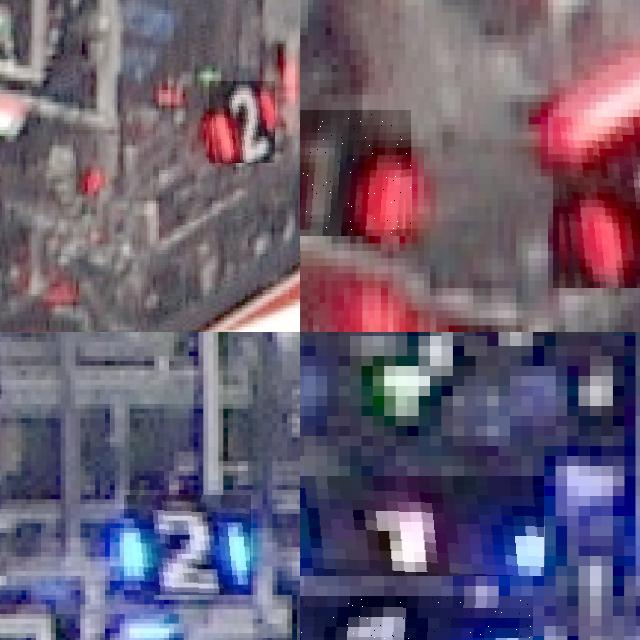B1: (300, 476, 544, 576), (300, 596, 532, 640)
B2: (125, 495, 252, 595)
R1: (553, 117, 640, 288), (300, 109, 411, 236)
R2: (209, 81, 275, 163)
